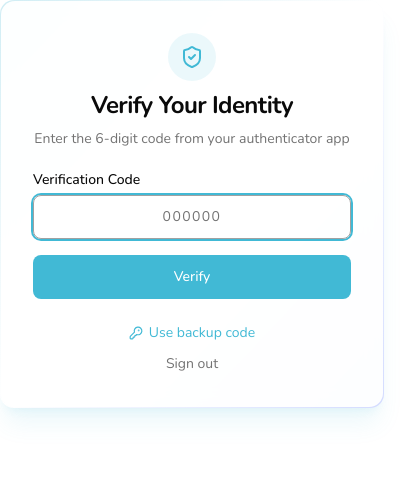
Test: MfaVerifyForm — guardrail edge cases › error priority › [P1] should show actionState.error over clientError when both exist
The image size is (401, 499).
Note: Submit — server action passes, but client verify fails
Step 1. Type "111111" into the field with test id "mfa-verify-code-input" → point(192, 217), box [33,195,351,239]
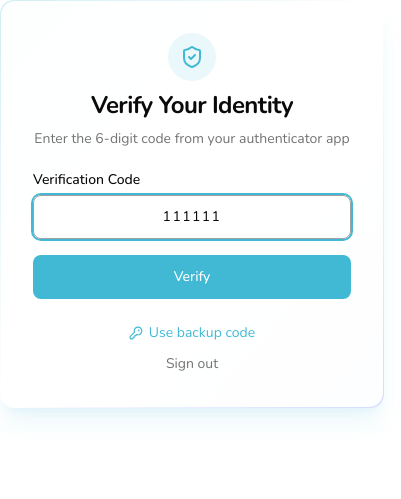
Step 2. Click the button with test id "mfa-verify-submit" → point(192, 277), box [33,255,351,299]
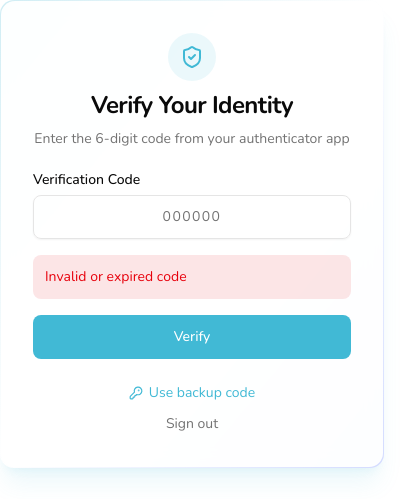
Check: the text "Invalid or expired code" is shown, box [33,255,351,299]
Step 3. Type "22" into the field with test id "mfa-verify-code-input" → point(192, 217), box [33,195,351,239]
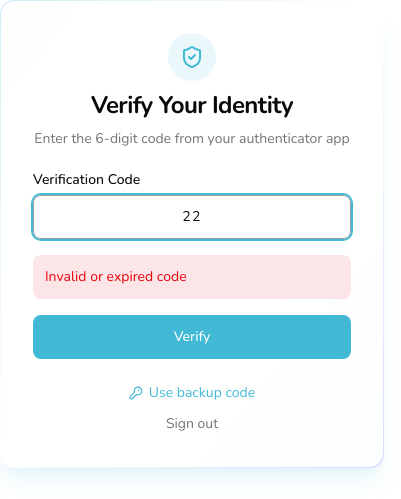
Step 4. Click the button with test id "mfa-verify-submit" → point(192, 337), box [33,315,351,359]
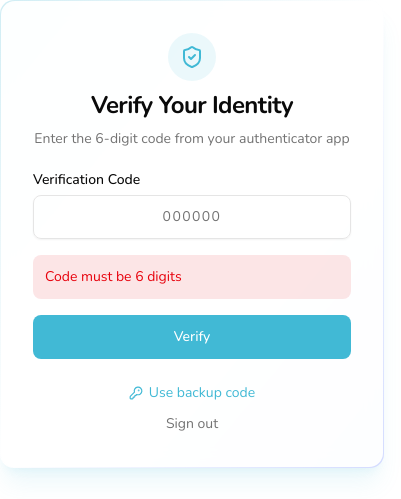
Check: the message with test id "mfa-verify-error" reads "Code must be 6 digits", box [45,267,182,286]
Check: the text "Invalid or expired code" is gone
